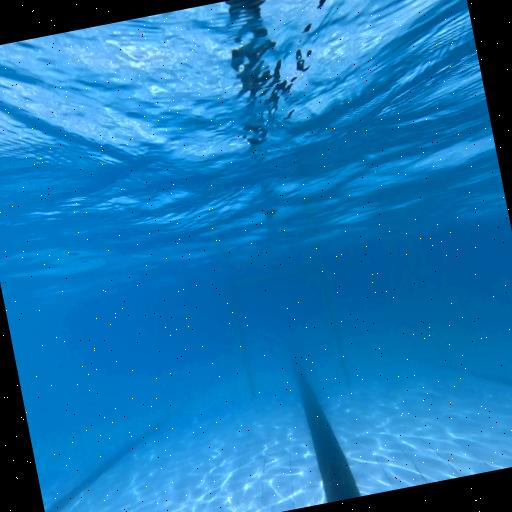gate: (230, 264, 352, 404)
